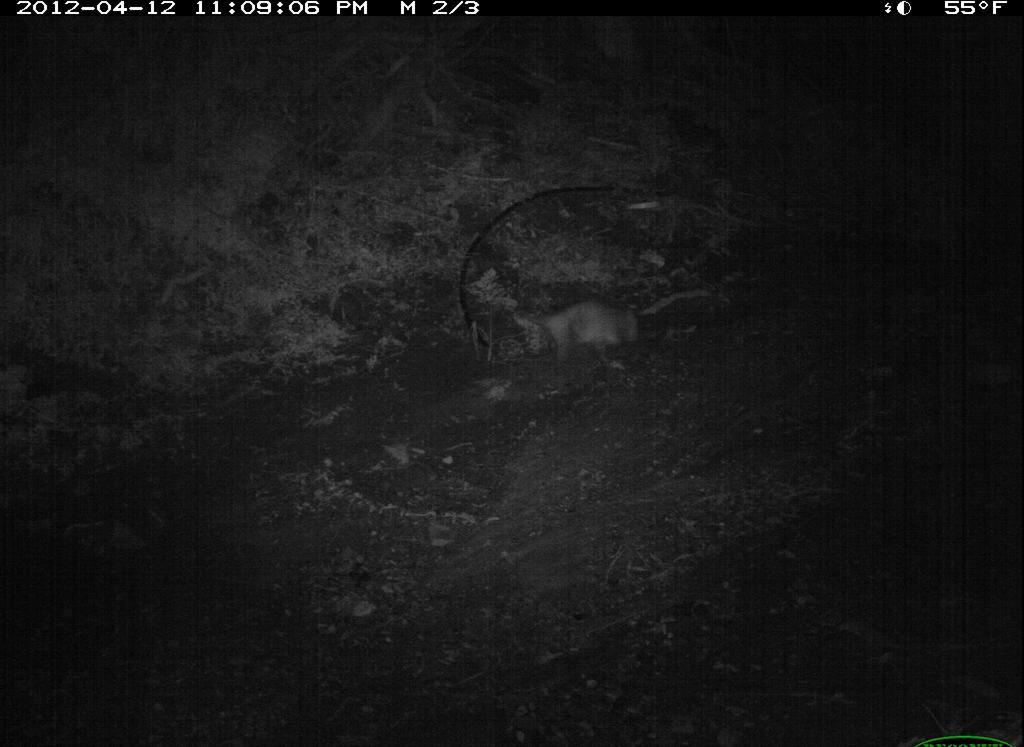opossum: (510, 299, 648, 367)
